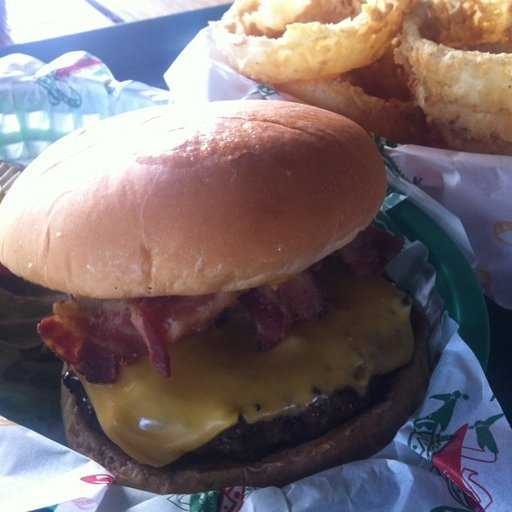hamburger: (1, 96, 432, 484)
